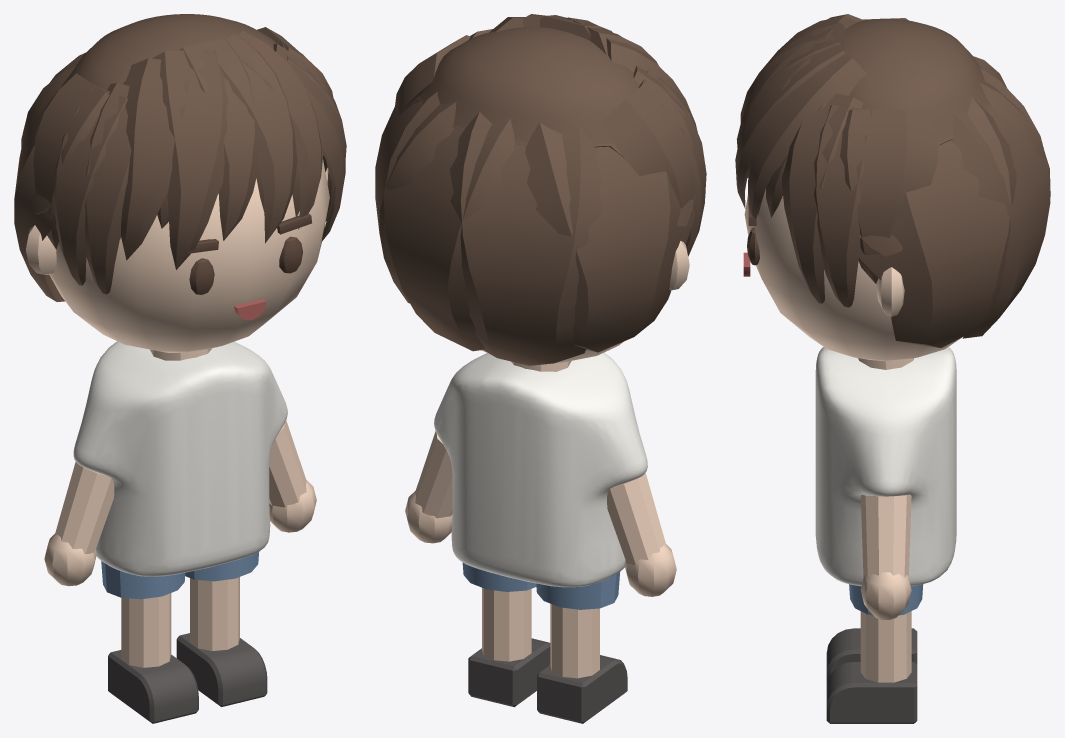
Rendered from lowpoly_customer.fbx.
3 renders of one model, left to right at view 1: azimuth 30°, elevation 25°; view 2: azimuth 150°, elevation 25°; view 3: azimuth 270°, elevation 25°, orthographic.
Parts seen in each view (by area): view 1: LowpolyCustomer; view 2: LowpolyCustomer; view 3: LowpolyCustomer.
Part boxes in pixels (left/top/right/bottom): LowpolyCustomer: left=14, top=14, right=346, bottom=723; LowpolyCustomer: left=375, top=14, right=706, bottom=723; LowpolyCustomer: left=735, top=14, right=1050, bottom=723.
Bounding box in the file's own units: 0.62 × 1.29 × 0.557.
